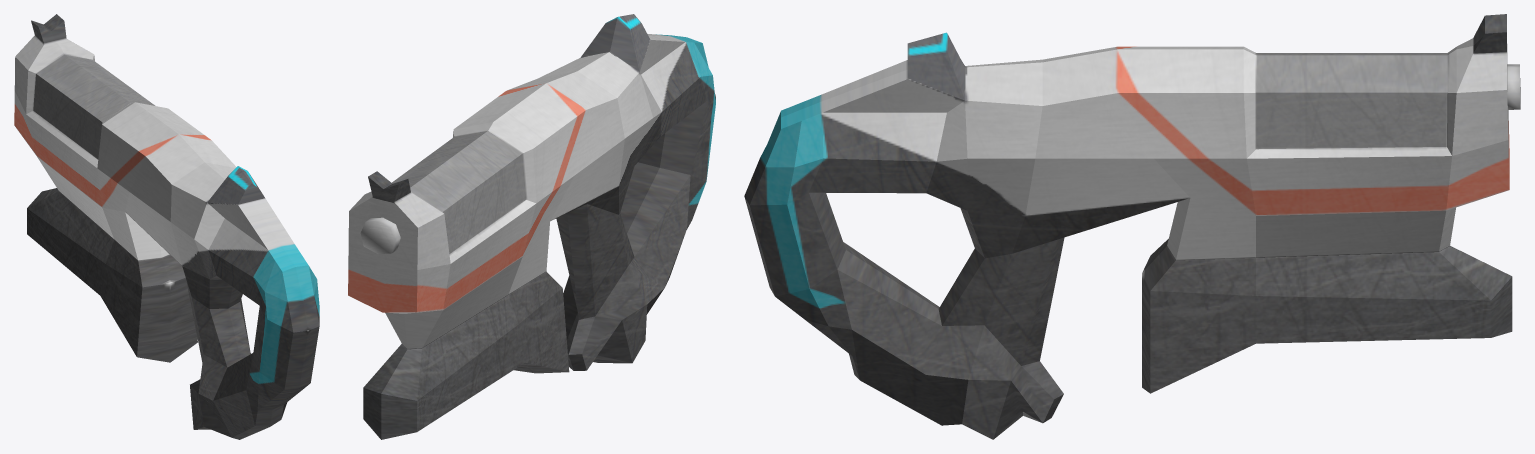
The model's file is Pistol.fbx.
The picture shows the model from 3 angles, left to right: view 1: azimuth 30°, elevation 25°; view 2: azimuth 150°, elevation 25°; view 3: azimuth 270°, elevation 25°; orthographic projection. The views are drawn at different scales.
Parts seen in each view (by area): view 1: pCube1; view 2: pCube1; view 3: pCube1.
Boxes of the visible parts, left/top/right/bottom form: pCube1: left=14, top=14, right=319, bottom=439; pCube1: left=348, top=14, right=715, bottom=439; pCube1: left=744, top=14, right=1520, bottom=439.
Size of the model in its own units: 0.2025 by 0.7438 by 1.29.
Materials: 1 (1 with a texture image).
